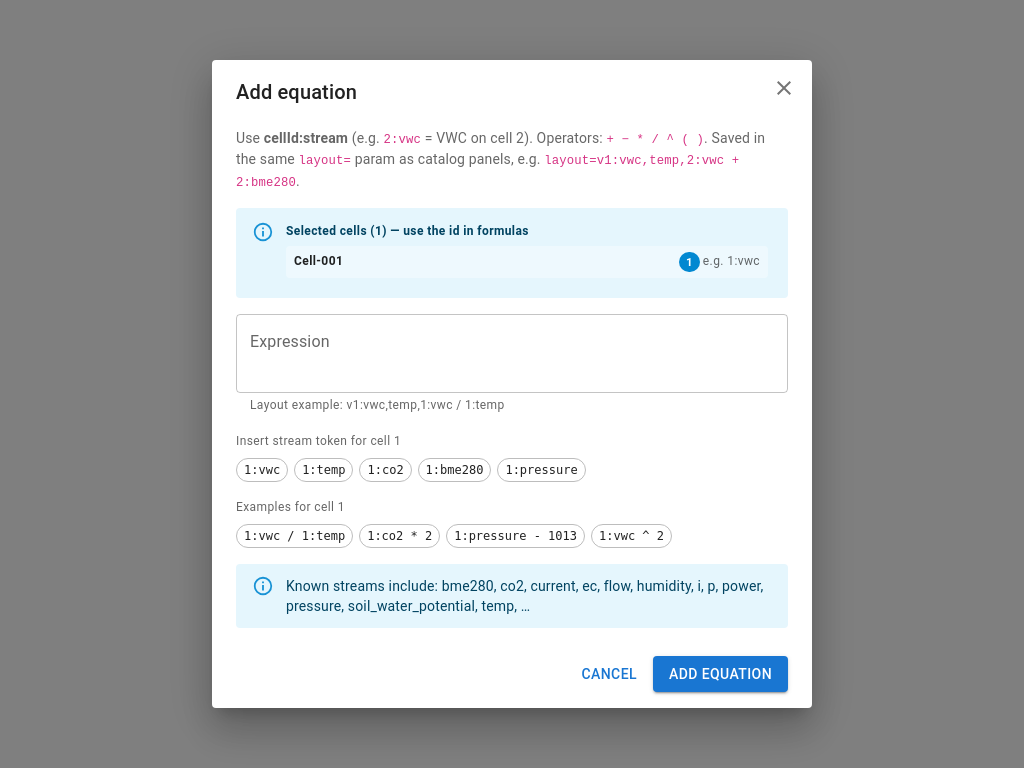
AddEquationModal › shows server validation errors
This screenshot has width=1024, height=768.
Step 1. Type "2:vwc / 2:temp" into the text box → (512, 354), box [250,331,774,377]
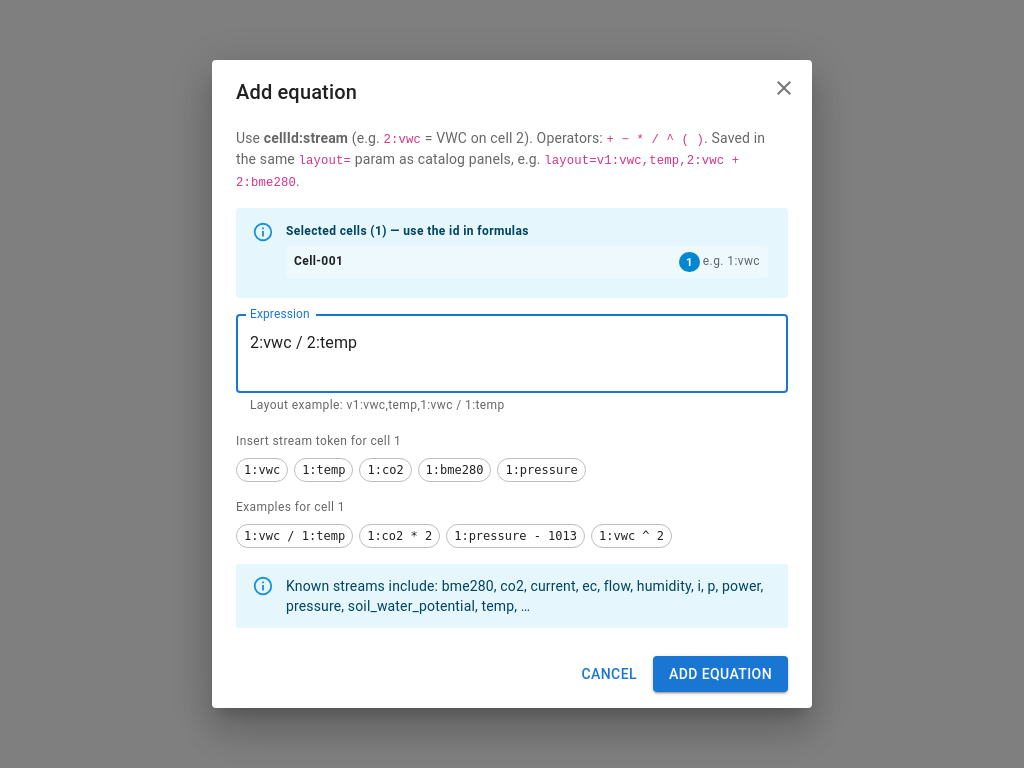
Step 2. Click the button "Add equation" → (720, 674), box [653,656,788,692]
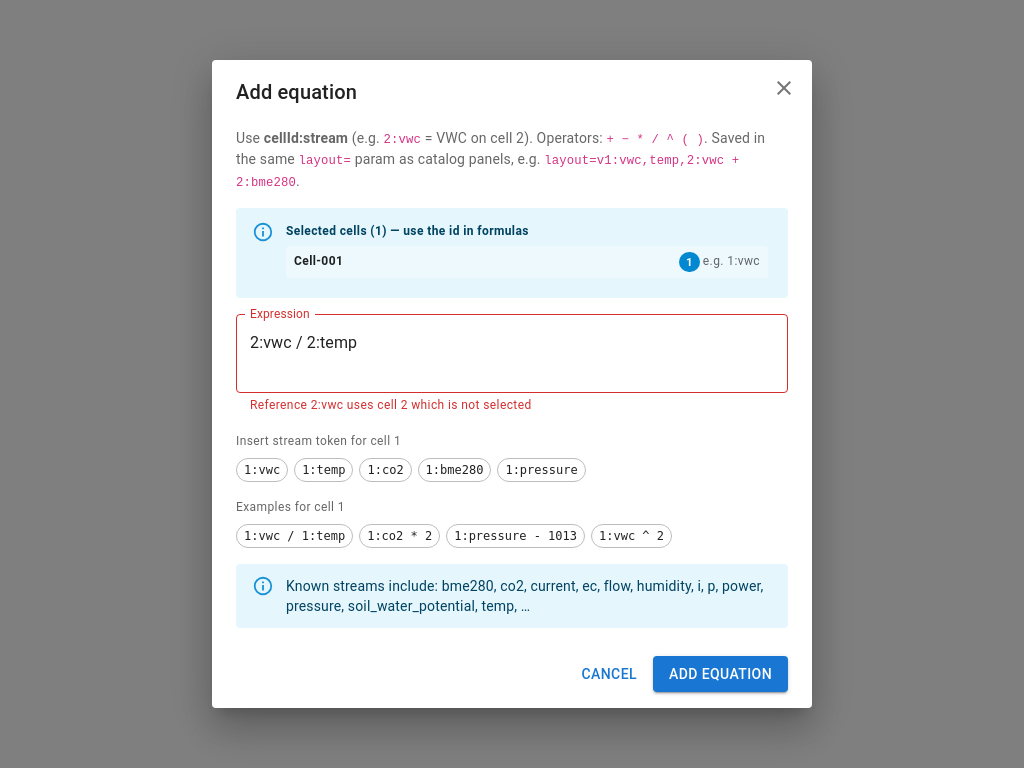
Result: the text "Reference 2:vwc uses cell 2 which is not selected" is shown at [250,398,532,412]
